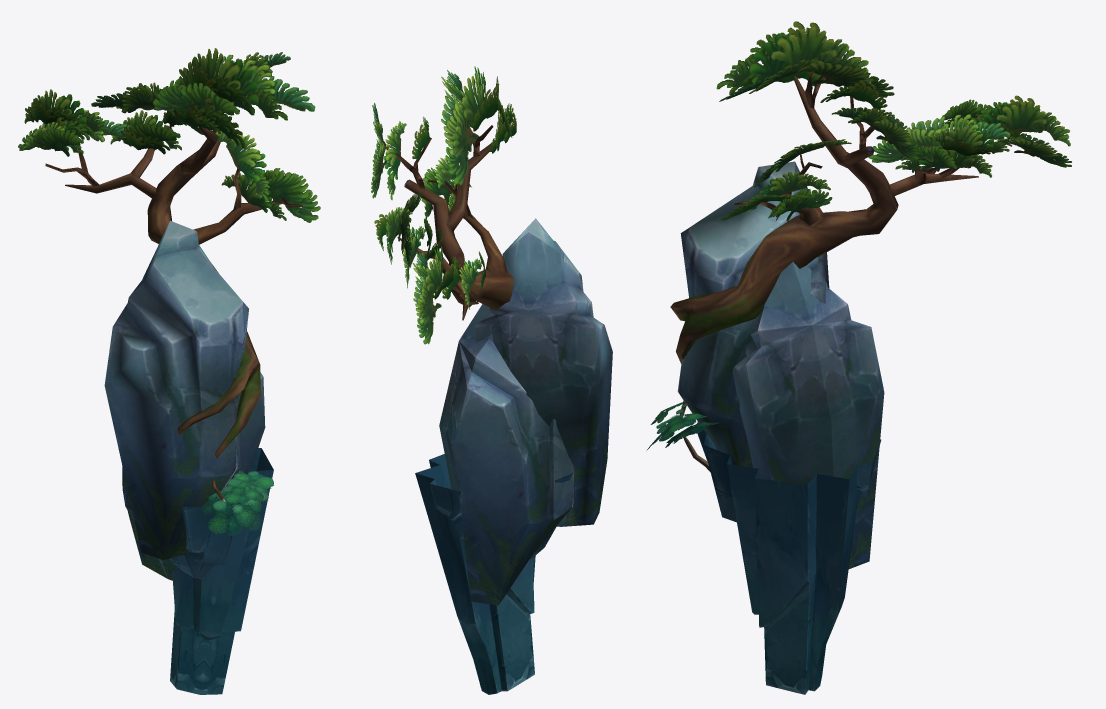
File: map_111_shitou_13.fbx
3 renders of one model, left to right at view 1: azimuth 30°, elevation 25°; view 2: azimuth 150°, elevation 25°; view 3: azimuth 270°, elevation 25°, orthographic. The views are drawn at different scales.
Visible parts, largest first — view 1: map_111_shitou_13; view 2: map_111_shitou_13; view 3: map_111_shitou_13.
Part boxes in pixels (x1,y1,x2,y2): map_111_shitou_13: [18, 48, 320, 694]; map_111_shitou_13: [371, 66, 612, 694]; map_111_shitou_13: [647, 21, 1071, 694].
Bounding box in the file's own units: 3.1 × 9.25 × 5.37.
